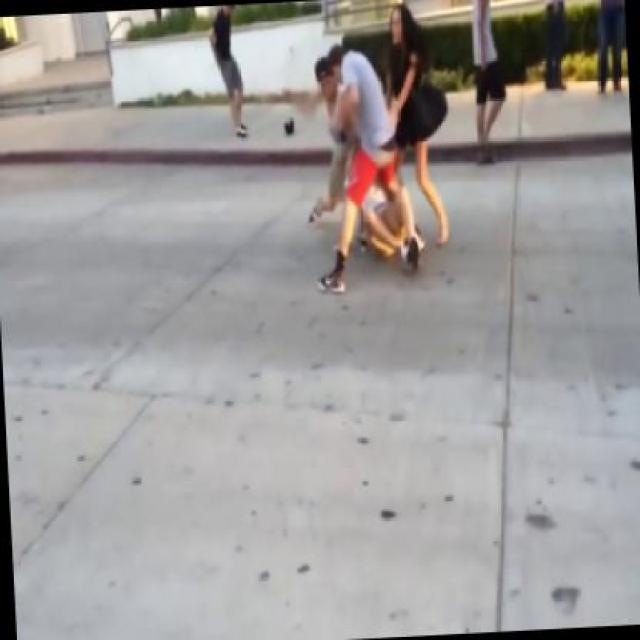fight: (306, 31, 402, 264)
non-fight: (382, 0, 442, 246), (205, 4, 250, 140)
